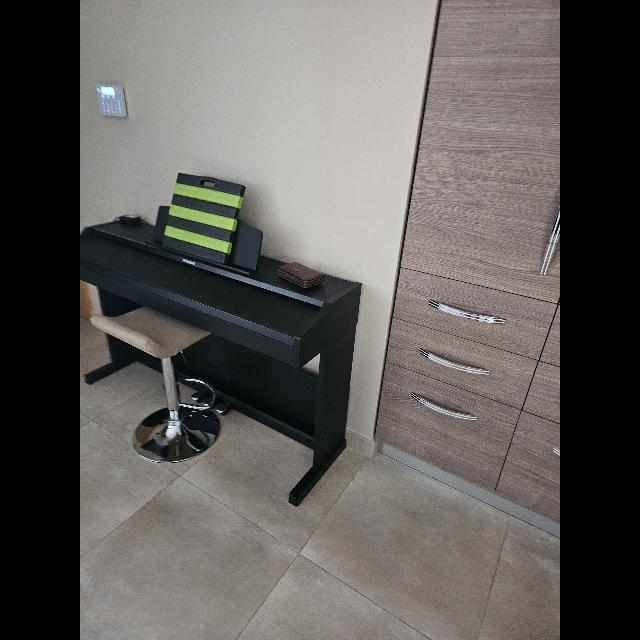Wallet: (278, 261, 326, 289)
